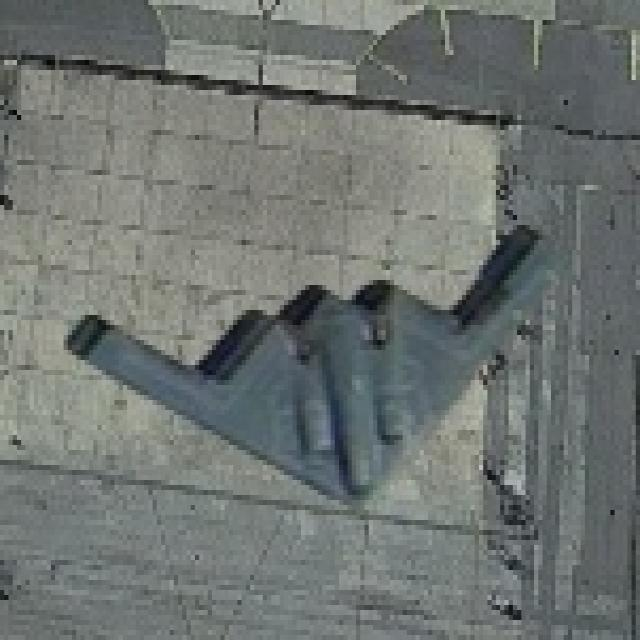B-2_TopDown: (55, 210, 555, 510)
